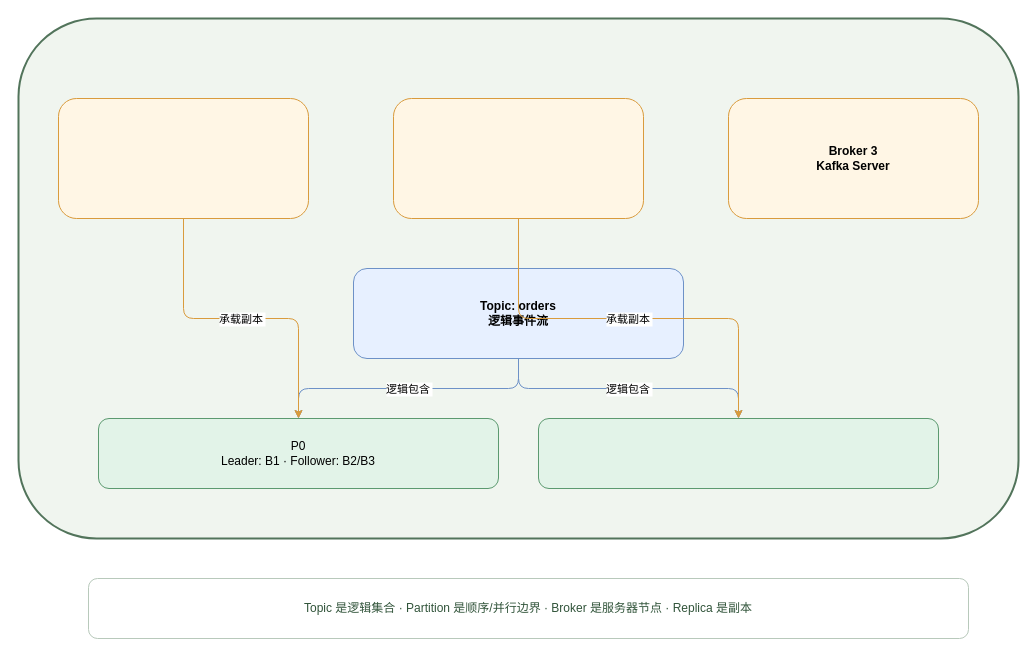
Image size: 1036x656. Some labels were removed from this diagram. The centre of each missing label's shape, as x and y in pixels:
"Broker 1 Kafka Server" goes at point (183, 158).
"Broker 2 Kafka Server" goes at point (518, 158).
"P1 Leader: B2 · Follower: B1/B3" goes at point (738, 453).
